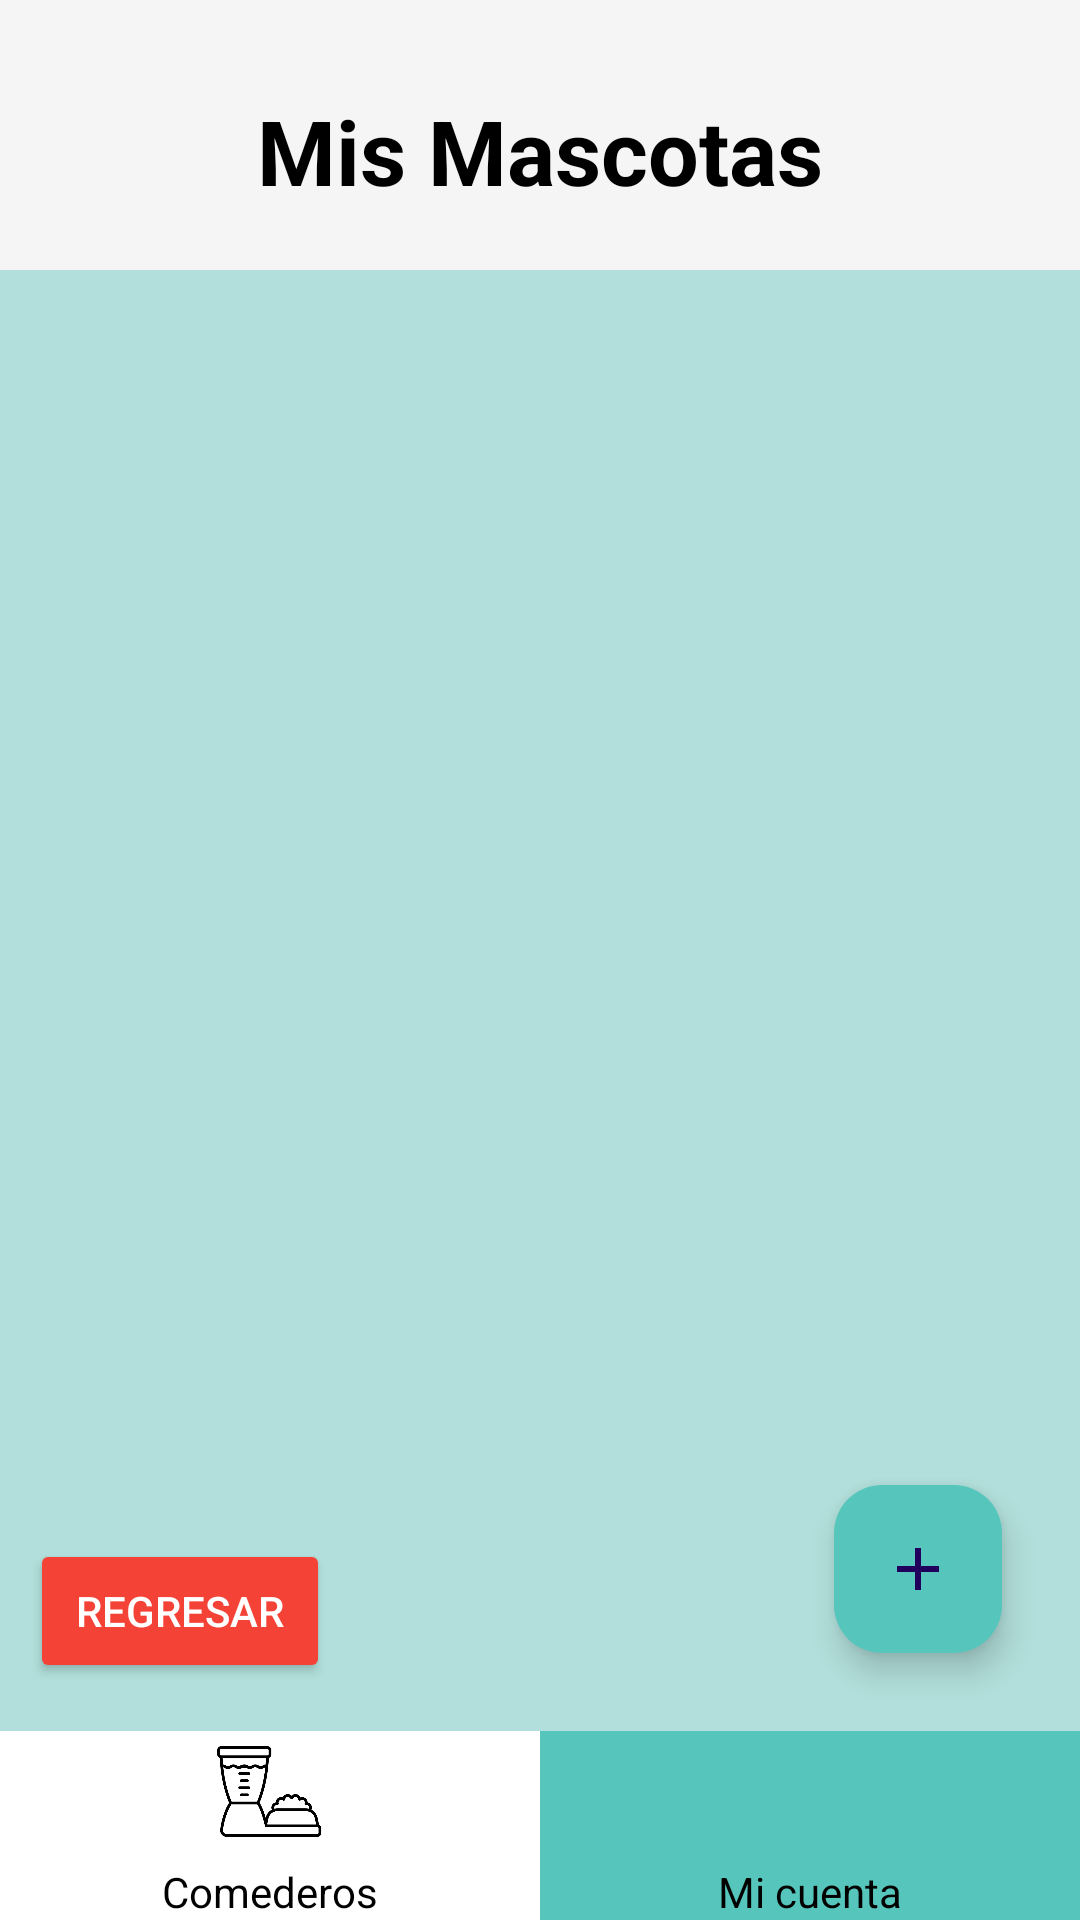

Icon bounding boxes for this 1080*1920 phone screenshot, format (x1, y1, x2, y2):
Agregar: (834, 1485, 1002, 1653)
